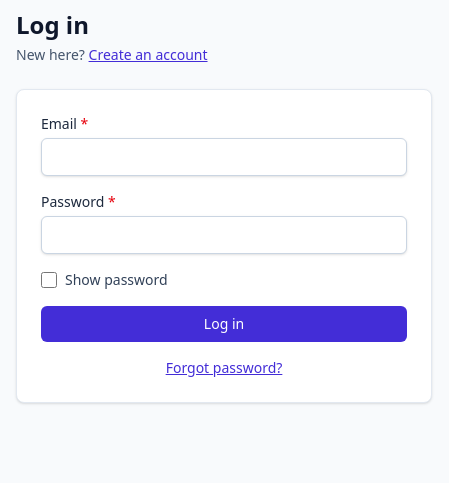
Test: LoginPage › shows the server's generic credentials error
Type "alex@example.com" into the field labelled "Email *". click: {"x": 224, "y": 157}
box: [41, 138, 407, 176]
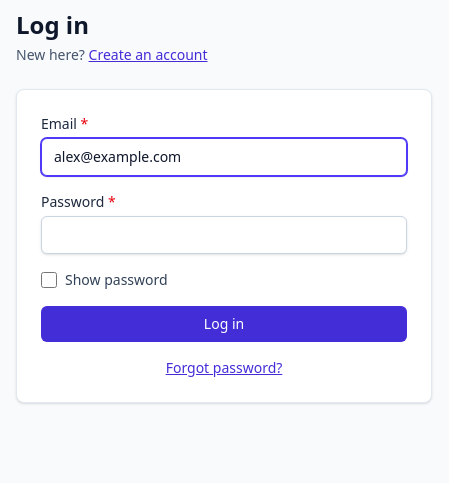
Type "wrong-password" into the password field labelled "Password *". click: {"x": 224, "y": 235}
box: [41, 216, 407, 254]
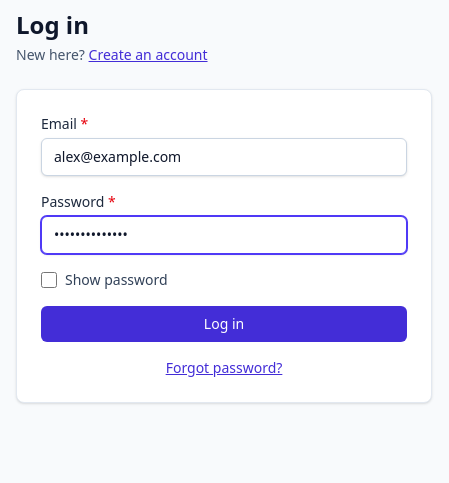
Click the button "Log in". click: {"x": 224, "y": 324}
box: [41, 306, 407, 342]
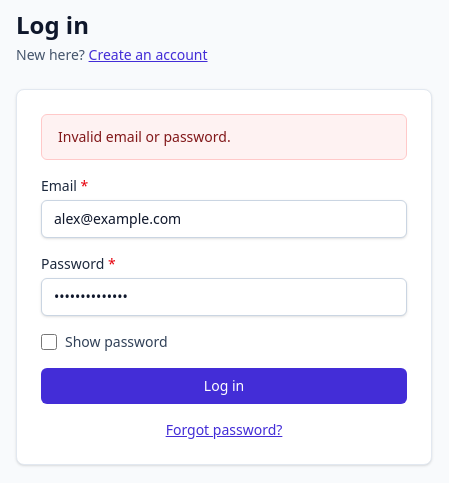
Expected: the message reads "Invalid email or password.", [58, 127, 231, 146]
